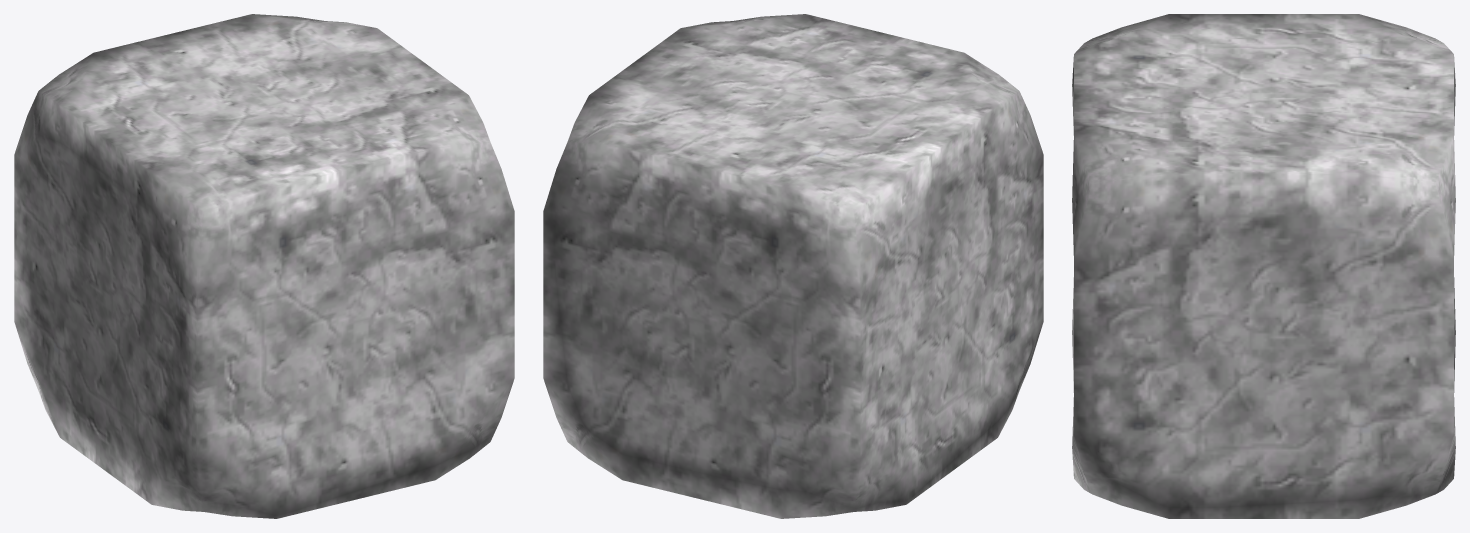
File: INST_SWORDLIGHT_MOVEABLOCK.fbx
The picture shows the model from 3 angles, left to right: view 1: azimuth 30°, elevation 25°; view 2: azimuth 150°, elevation 25°; view 3: azimuth 270°, elevation 25°; orthographic projection. The views are drawn at different scales.
Parts seen in each view (by area): view 1: INST_SWORDLIGHT_MOVEABLOCK; view 2: INST_SWORDLIGHT_MOVEABLOCK; view 3: INST_SWORDLIGHT_MOVEABLOCK.
Boxes of the visible parts, x1,y1,x2,y2 form: INST_SWORDLIGHT_MOVEABLOCK: (14,14,514,518); INST_SWORDLIGHT_MOVEABLOCK: (543,14,1043,518); INST_SWORDLIGHT_MOVEABLOCK: (1072,14,1455,518).
Bounding box in the file's own units: 10100 × 10100 × 10100.
Materials: 1 (1 with a texture image).
